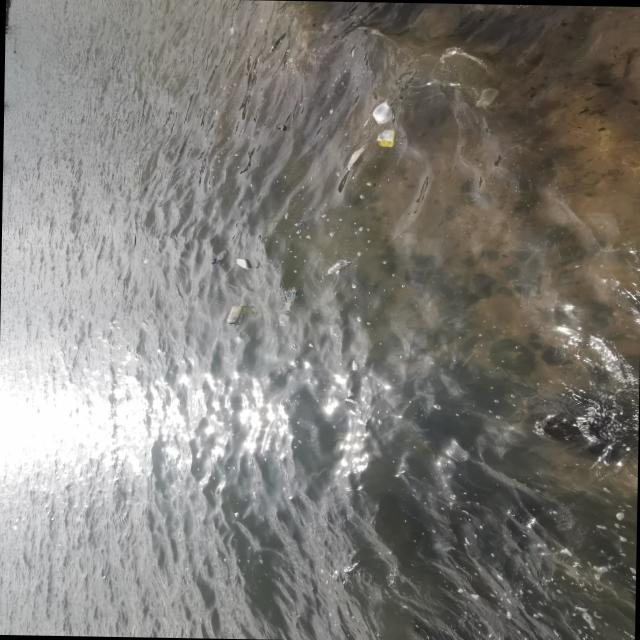foam: (373, 99, 396, 124), (237, 259, 251, 269)
plastic bottle: (327, 259, 350, 277), (227, 306, 242, 325), (213, 249, 228, 265)
